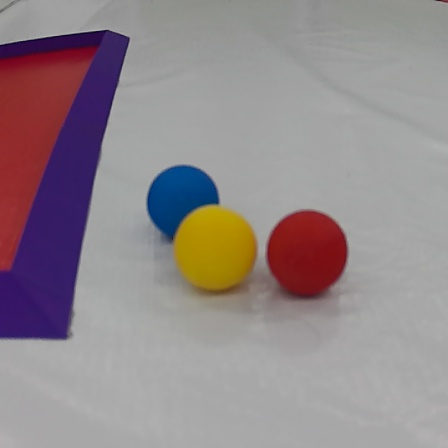blue: (145, 161, 218, 240)
red: (264, 209, 350, 299)
red_aim: (0, 30, 132, 348)
yellow: (169, 201, 261, 296)
